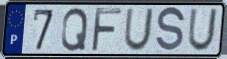7: (32, 7, 56, 51)
F: (90, 6, 124, 53)
Q: (60, 6, 90, 53)
S: (154, 5, 187, 55)
U: (186, 7, 220, 53), (122, 7, 156, 52)
